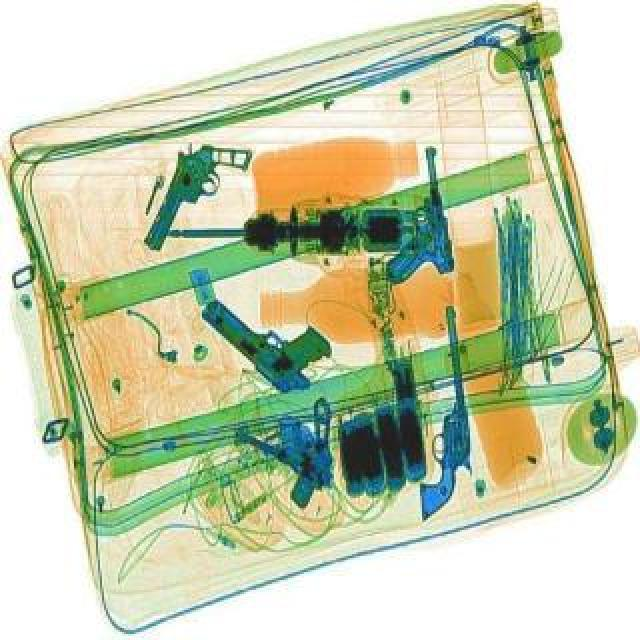gun: (194, 270, 342, 406), (402, 308, 478, 524), (226, 376, 366, 492), (142, 134, 250, 270), (366, 146, 456, 290)
